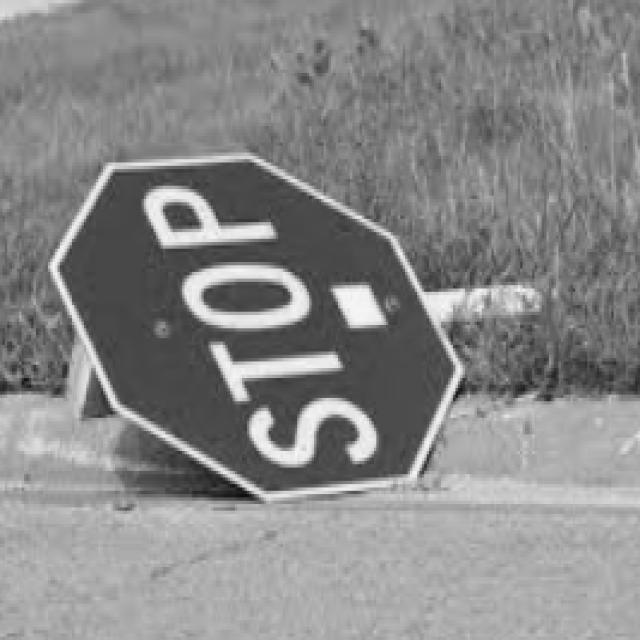Stop-signs: (51, 155, 461, 501)
